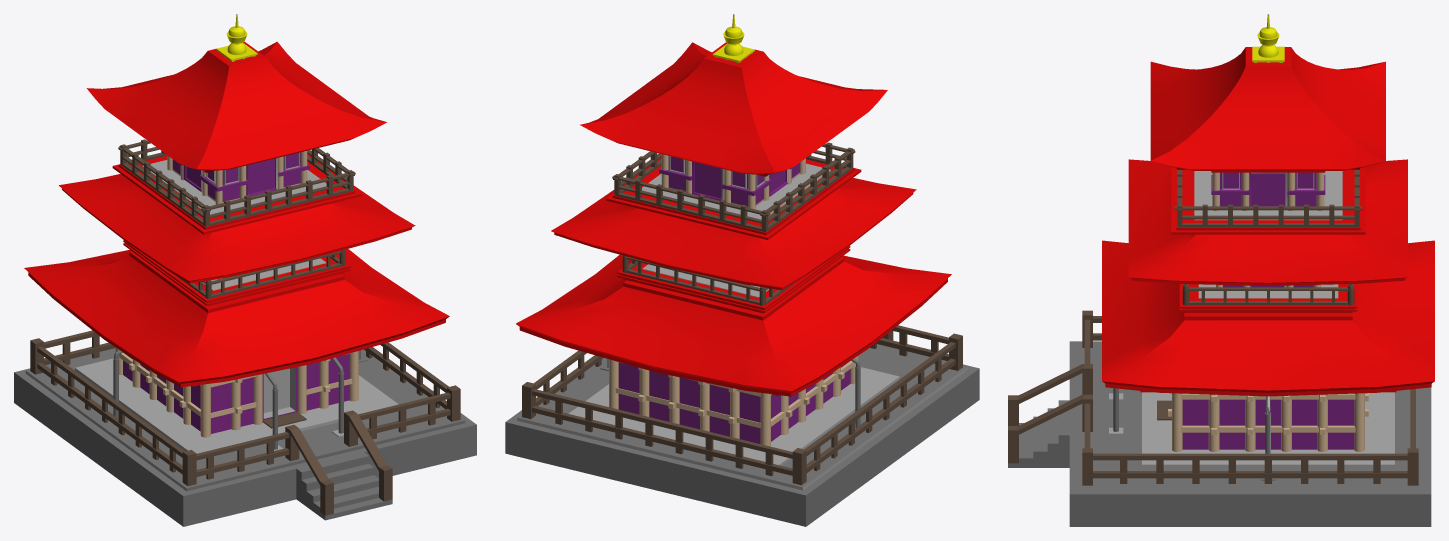
File: Japanese_house.fbx
The picture shows the model from 3 angles, left to right: view 1: azimuth 30°, elevation 25°; view 2: azimuth 150°, elevation 25°; view 3: azimuth 270°, elevation 25°; orthographic projection. The views are drawn at different scales.
Parts seen in each view (by area): view 1: Japanese_house; view 2: Japanese_house; view 3: Japanese_house.
Boxes of the visible parts, left/top/right/bottom form: Japanese_house: left=14, top=14, right=476, bottom=526; Japanese_house: left=505, top=14, right=979, bottom=526; Japanese_house: left=1008, top=14, right=1434, bottom=526.
Bounding box in the file's own units: 230 × 306 × 272.
